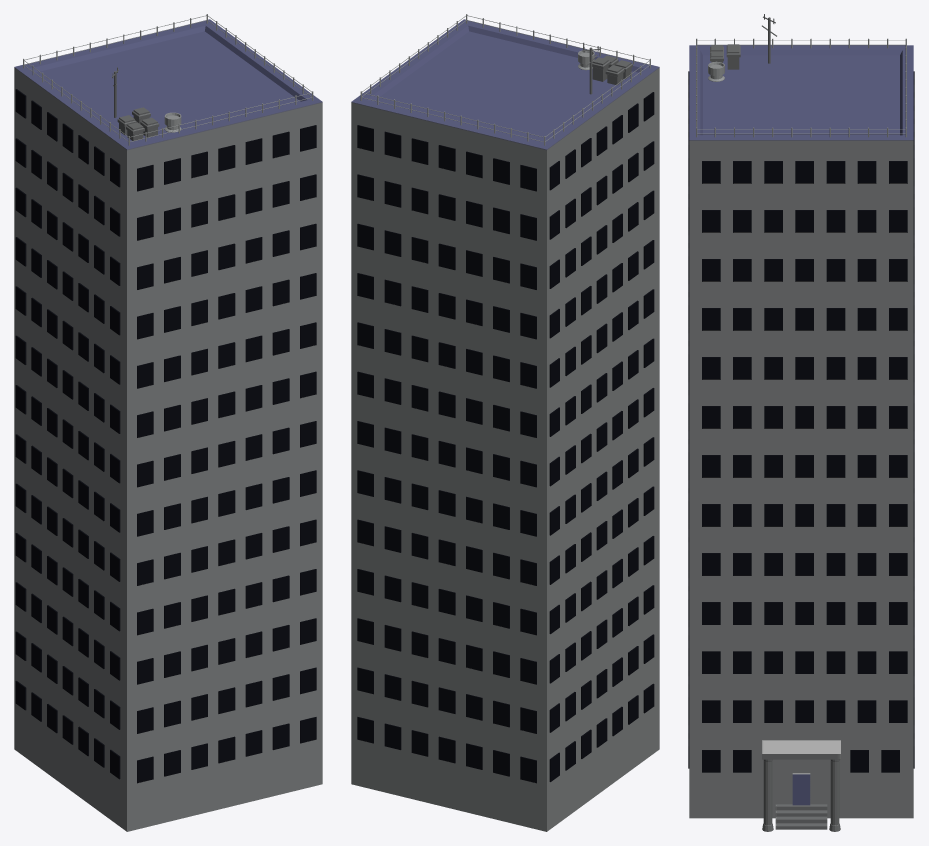
File: House3.fbx
3 views of the same model, side by side, from view 1: azimuth 30°, elevation 25°; view 2: azimuth 150°, elevation 25°; view 3: azimuth 270°, elevation 25° (orthographic).
Visible parts, largest first — view 1: House3; view 2: House3; view 3: House3.
Boxes of the visible parts, bbox=[...] form: House3: bbox=[14, 14, 322, 831]; House3: bbox=[351, 14, 659, 831]; House3: bbox=[688, 14, 914, 831].
Size of the model in its own units: 523 by 1611 by 459.
1 material, 1 textured.
